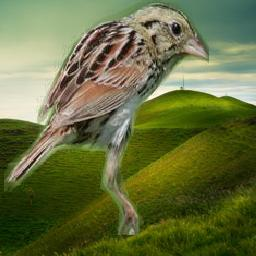Sparrow: (5, 0, 210, 235)
